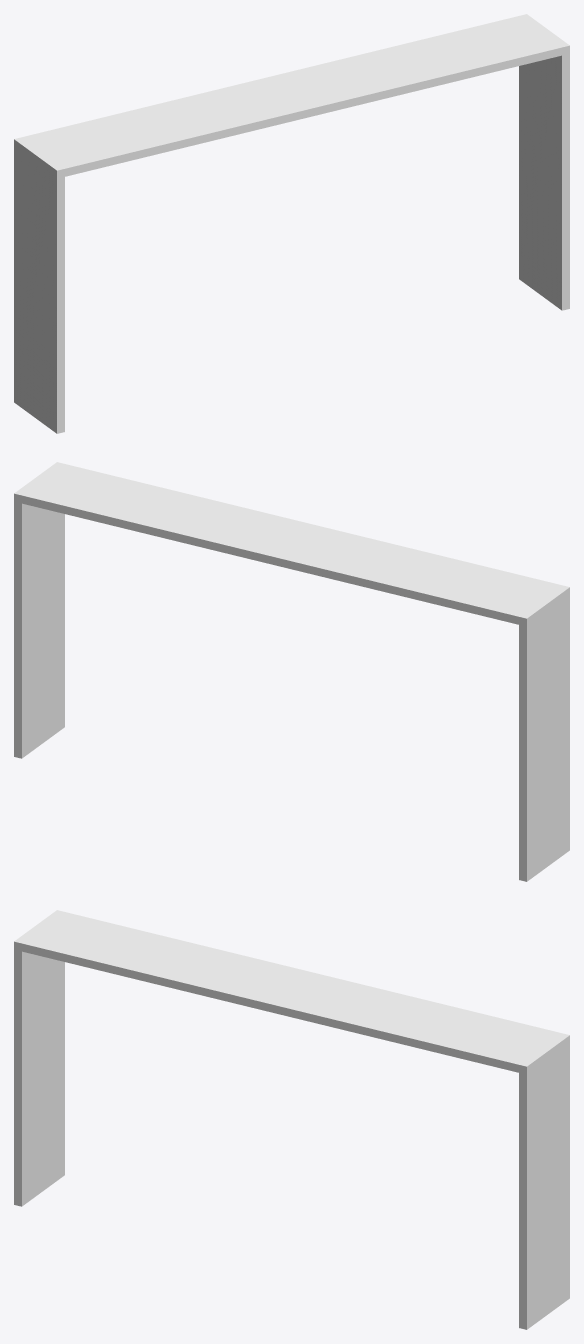
The model's file is M_Pickup_LunchboxHandle.fbx.
3 renders of one model, top to bottom at view 1: azimuth 30°, elevation 25°; view 2: azimuth 150°, elevation 25°; view 3: azimuth 330°, elevation 25°, orthographic.
Parts seen in each view (by area): view 1: Lunchbox_handle; view 2: Lunchbox_handle; view 3: Lunchbox_handle.
Boxes of the visible parts, x1,y1,x2,y2 form: Lunchbox_handle: (14, 14, 569, 433); Lunchbox_handle: (14, 462, 569, 881); Lunchbox_handle: (14, 910, 569, 1329).
Size of the model in its own units: 24.24 by 11.89 by 3.53.
